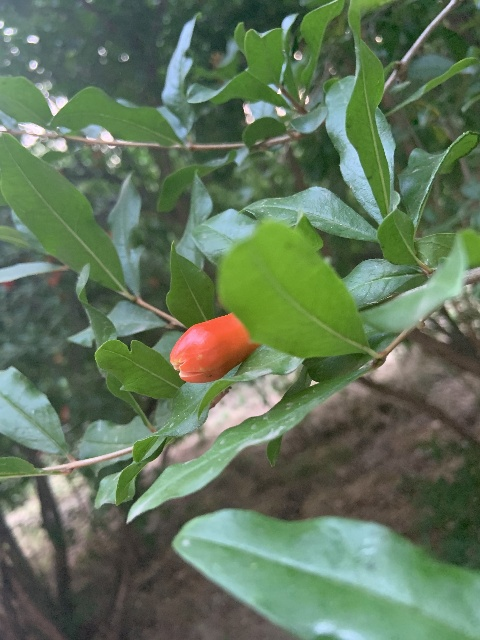bud: (170, 313, 259, 383)
